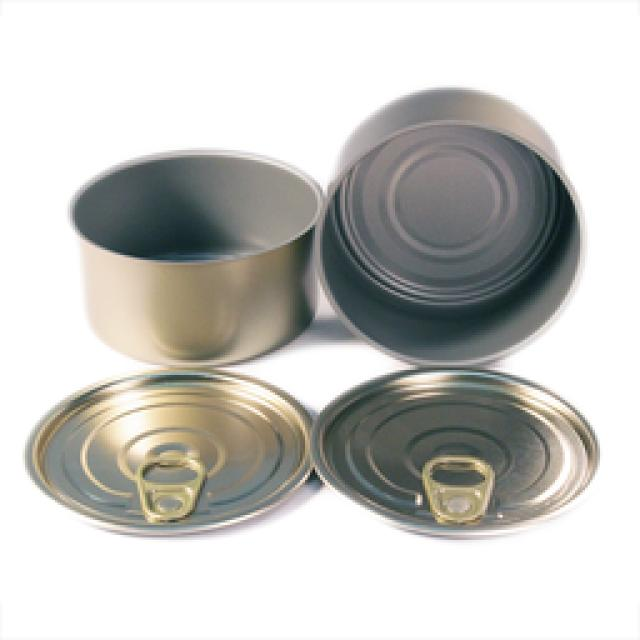alumunium: (70, 120, 572, 365), (28, 368, 595, 530), (335, 88, 558, 175)
